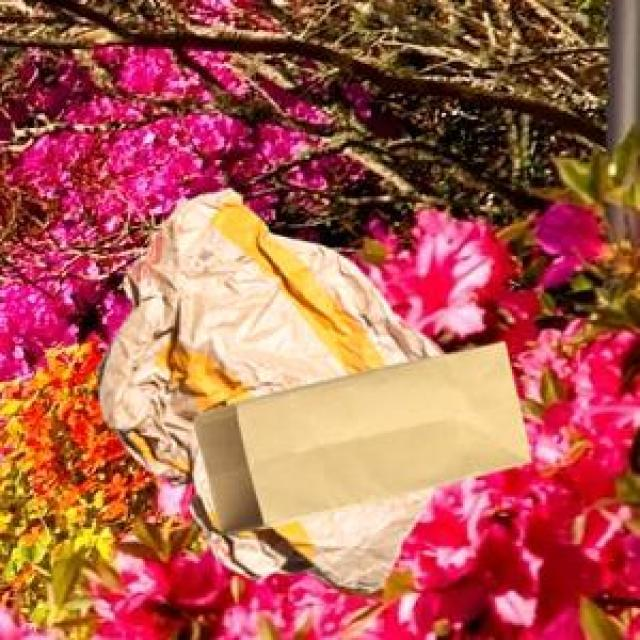Paper_Bag: (94, 185, 440, 590), (191, 338, 528, 530)
